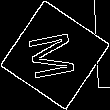M_E: (26, 27, 84, 83)
